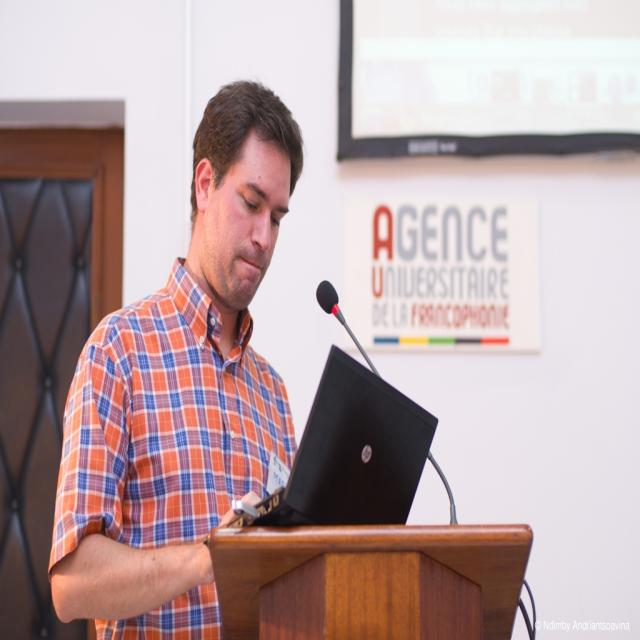Laptop: (211, 312, 430, 594)
